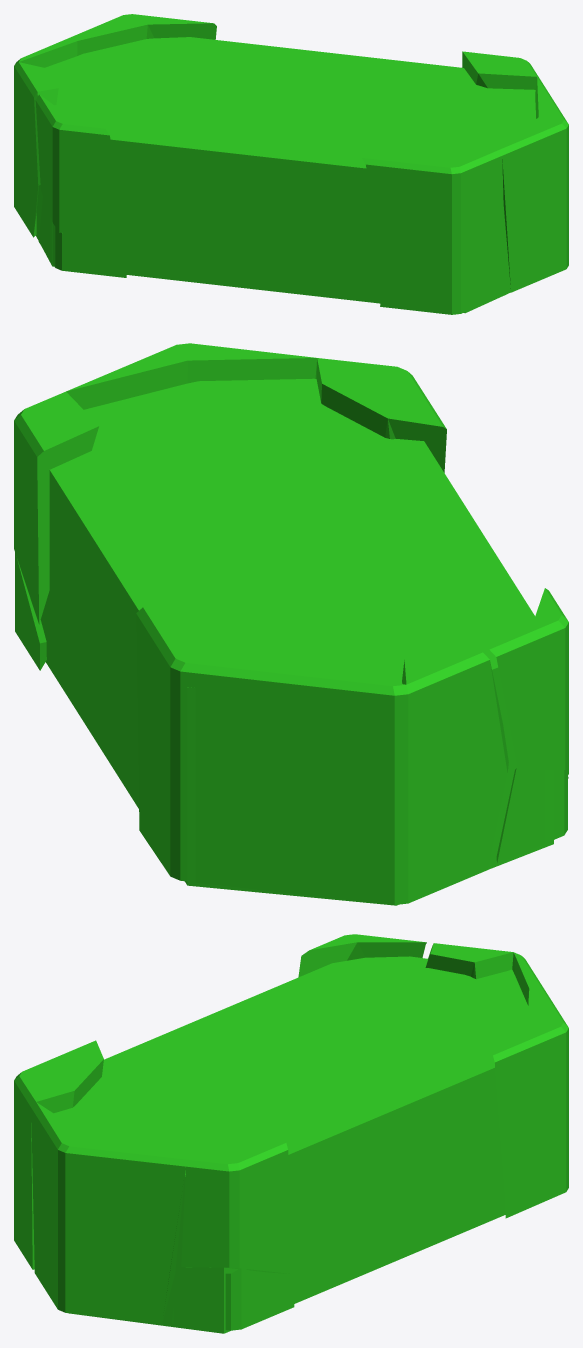
File: MediumObstacle2 (1).fbx
The picture shows the model from 3 angles, top to bottom: view 1: azimuth 30°, elevation 25°; view 2: azimuth 150°, elevation 25°; view 3: azimuth 270°, elevation 25°; orthographic projection. The views are drawn at different scales.
Parts seen in each view (by area): view 1: Model, HexGib09, HexGib01, HexGib06, HexGib05, HexGib04, HexGib02, HexGib08, HexGib07; view 2: Model, HexGib04, HexGib05, HexGib06, HexGib02, HexGib01, HexGib09, HexGib07, HexGib03; view 3: Model, HexGib01, HexGib04, HexGib02, HexGib09, HexGib03, HexGib06, HexGib05.
Boxes of the visible parts, bbox=[...] form: Model: bbox=[36, 37, 536, 313]; HexGib09: bbox=[362, 142, 505, 314]; HexGib01: bbox=[499, 77, 568, 292]; HexGib06: bbox=[35, 94, 127, 232]; HexGib05: bbox=[14, 62, 58, 237]; HexGib04: bbox=[14, 14, 216, 67]; HexGib02: bbox=[462, 51, 540, 89]; HexGib08: bbox=[63, 227, 126, 277]; HexGib07: bbox=[38, 196, 98, 274]; Model: bbox=[40, 378, 553, 905]; HexGib04: bbox=[136, 607, 408, 904]; HexGib05: bbox=[402, 643, 508, 903]; HexGib06: bbox=[489, 588, 568, 774]; HexGib02: bbox=[14, 391, 98, 624]; HexGib01: bbox=[66, 343, 316, 409]; HexGib09: bbox=[316, 358, 446, 472]; HexGib07: bbox=[496, 768, 567, 863]; HexGib03: bbox=[15, 551, 46, 670]; Model: bbox=[54, 956, 528, 1333]; HexGib01: bbox=[31, 1102, 185, 1323]; HexGib04: bbox=[493, 952, 568, 1218]; HexGib02: bbox=[181, 1137, 291, 1273]; HexGib09: bbox=[14, 1040, 103, 1269]; HexGib03: bbox=[172, 1267, 294, 1330]; HexGib06: bbox=[298, 934, 426, 977]; HexGib05: bbox=[425, 943, 513, 978].
Size of what is drawn, in the model's own units: 1.02 by 0.3461 by 1.02.
